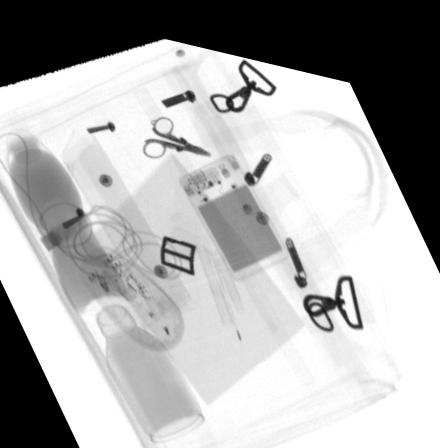Powerbank: (180, 140, 291, 272)
Scissors: (143, 108, 214, 151)
